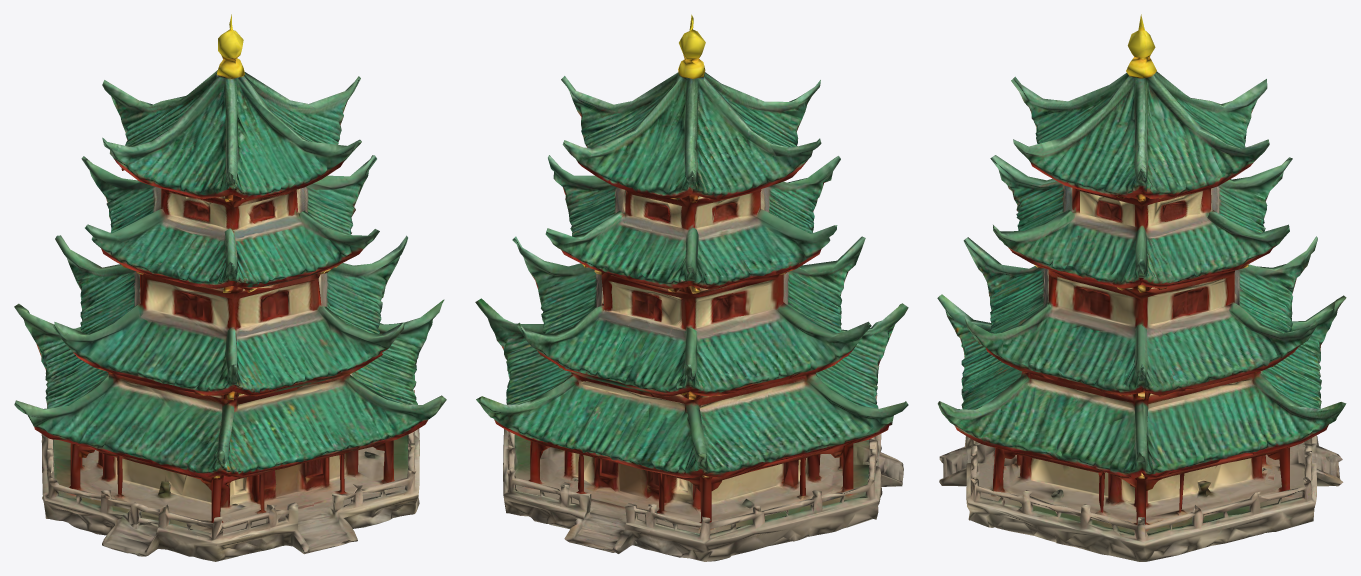
The model's file is pagoda.glb.
The picture shows the model from 3 angles, left to right: view 1: azimuth 30°, elevation 25°; view 2: azimuth 150°, elevation 25°; view 3: azimuth 270°, elevation 25°; orthographic projection.
Size of the model in its own units: 0.9555 by 0.9763 by 0.7863.
Materials: 1 (1 with a texture image).
